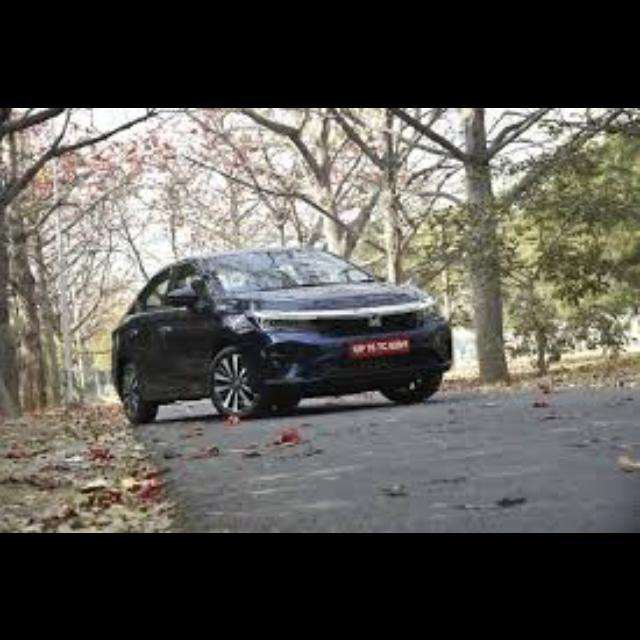vehicles: (104, 240, 453, 426)
